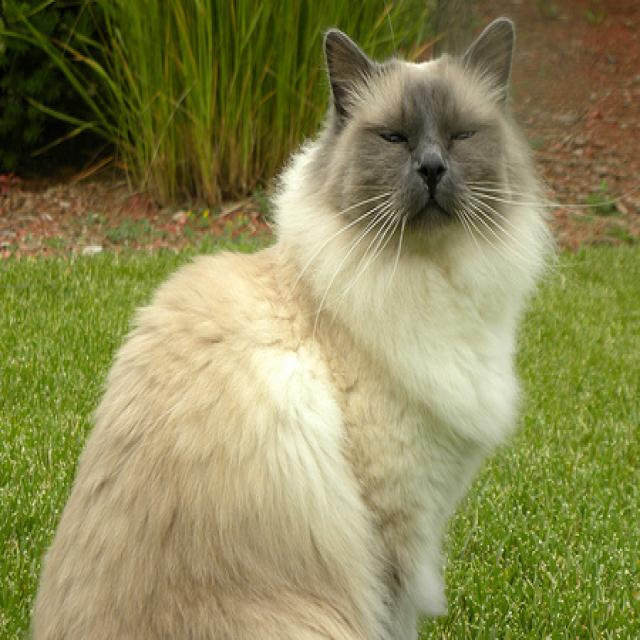Birman: (14, 17, 562, 640)
